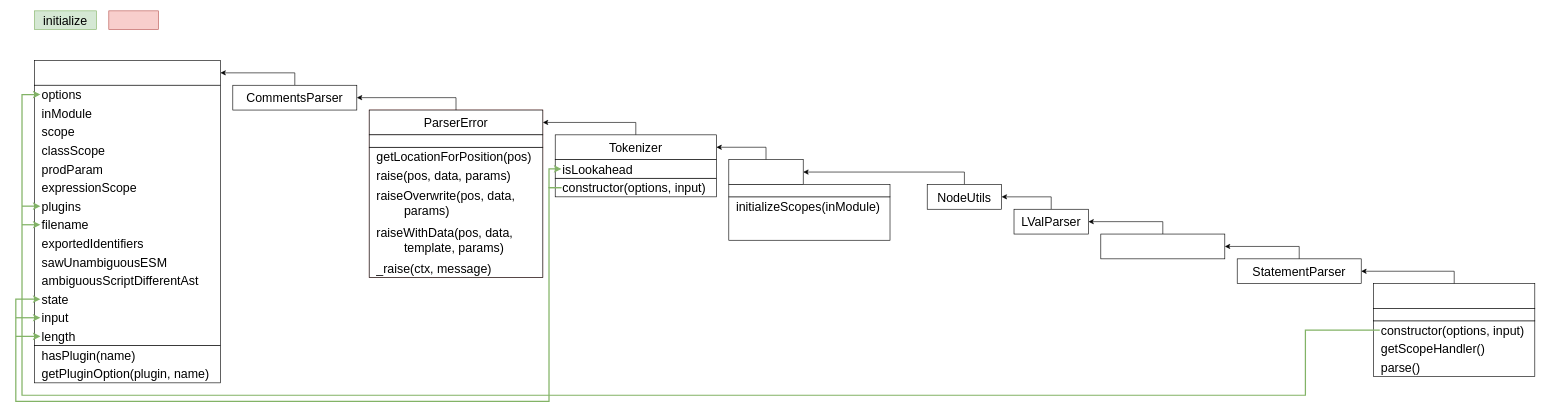
This 1546x418 diagram has some shape labels left out. The shapes that lost their labels are listed below. From the top down, each one's box as (x1, y1, x2, y2) in pixels, then its label:
(108, 10, 158, 29): call
(34, 60, 220, 85): BaseParser
(728, 159, 803, 184): UtilParser
(1100, 233, 1225, 259): ExpressionParser
(1373, 283, 1535, 308): Parser
